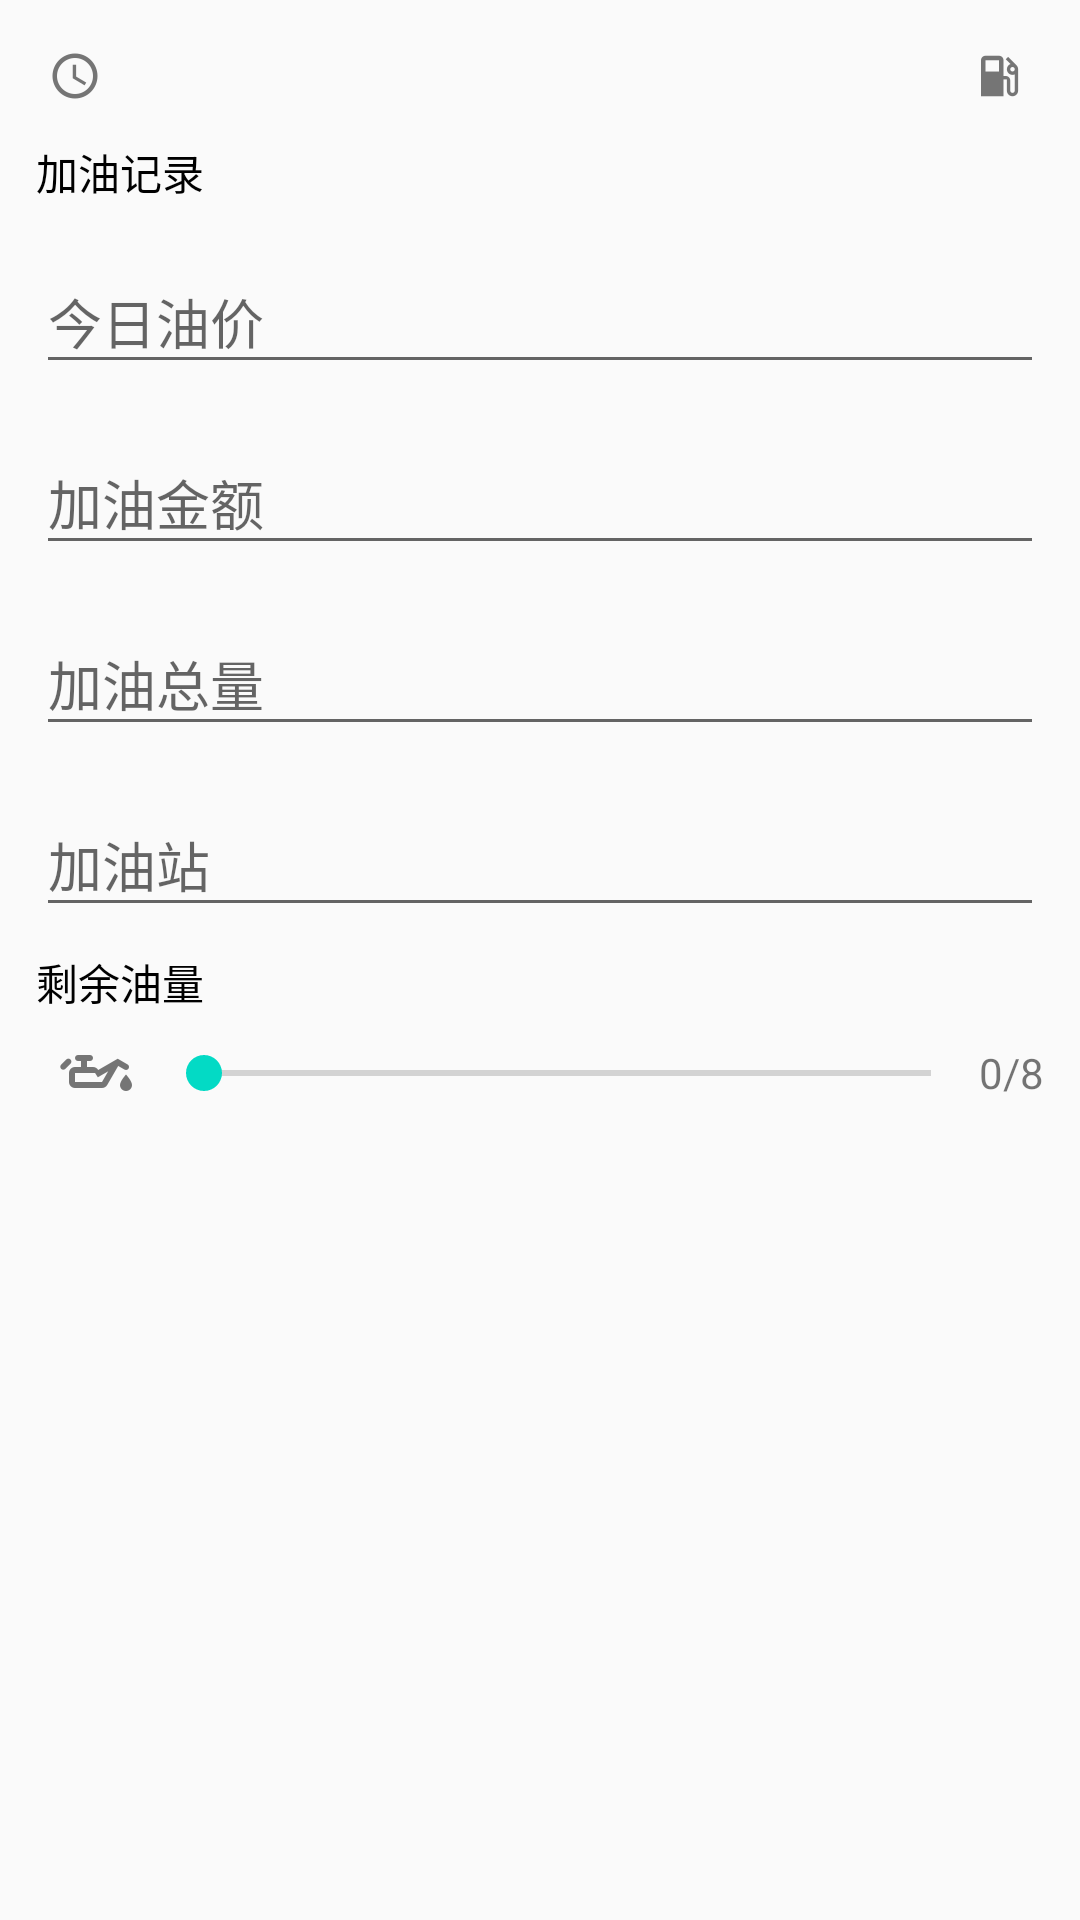

Icons on this 1080*1920 Android screen, each with the point to tap as (x,y):
oil: (96,1073)
